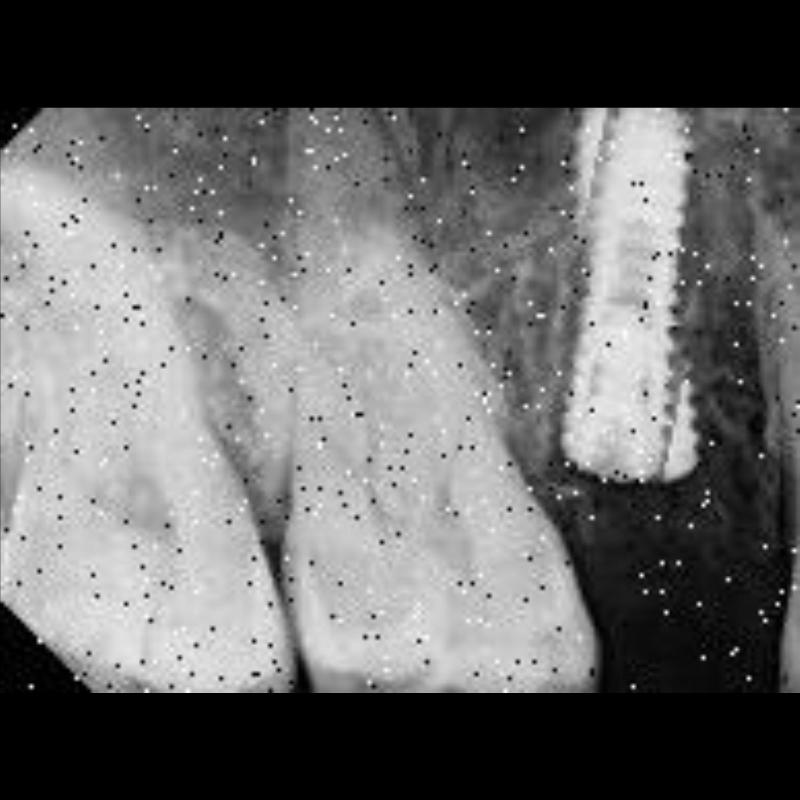osstem: (549, 107, 717, 503)
